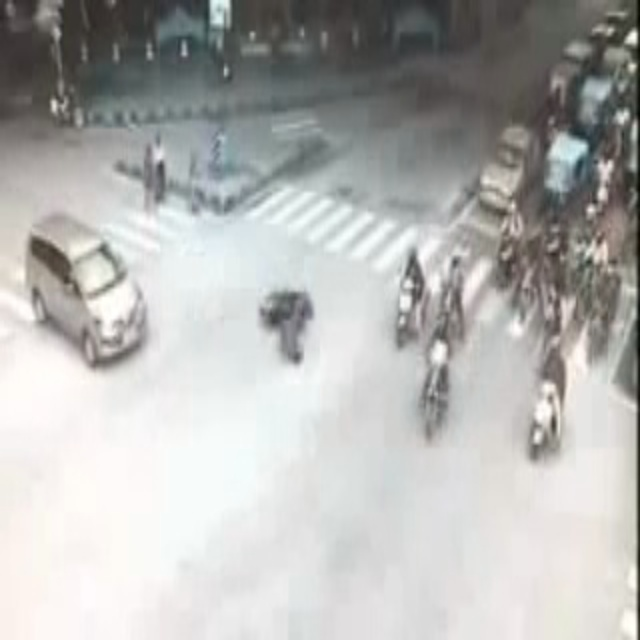acc: (250, 265, 318, 376)
